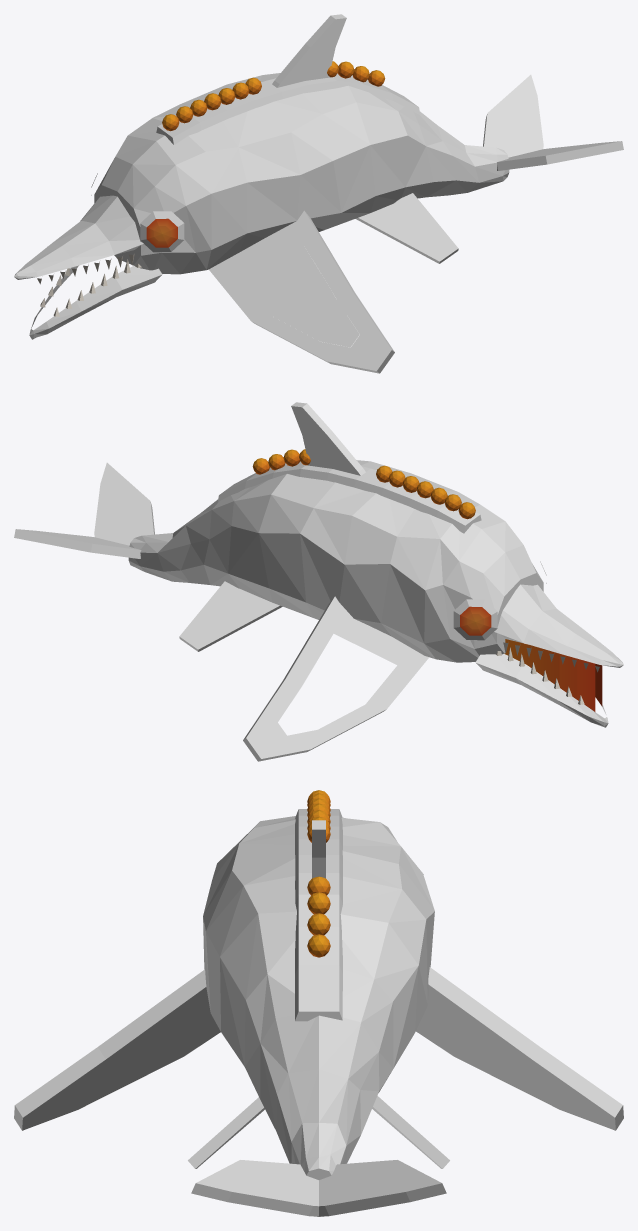
The model's file is boto2.glb.
The picture shows the model from 3 angles, top to bottom: view 1: azimuth 30°, elevation 25°; view 2: azimuth 150°, elevation 25°; view 3: azimuth 270°, elevation 25°; orthographic projection. The views are drawn at different scales.
Visible parts, largest first — view 1: chapas, led, bulbos, dentes, olhos; view 2: chapas, boca, bulbos, olhos, dentes; view 3: chapas, bulbos.
Part boxes in pixels (x1=…): chapas: x1=14, y1=14, x2=623, y2=373; led: x1=240, y1=245, x2=359, y2=347; bulbos: x1=162, y1=61, x2=385, y2=131; dentes: x1=37, y1=253, x2=141, y2=316; olhos: x1=146, y1=218, x2=177, y2=247; chapas: x1=14, y1=402, x2=623, y2=761; boca: x1=504, y1=639, x2=602, y2=711; bulbos: x1=252, y1=449, x2=475, y2=519; olhos: x1=460, y1=606, x2=491, y2=635; dentes: x1=496, y1=642, x2=599, y2=704; chapas: x1=14, y1=809, x2=623, y2=1216; bulbos: x1=307, y1=790, x2=330, y2=957.
Bounding box in the file's own units: 2.01 × 0.8894 × 1.4.
